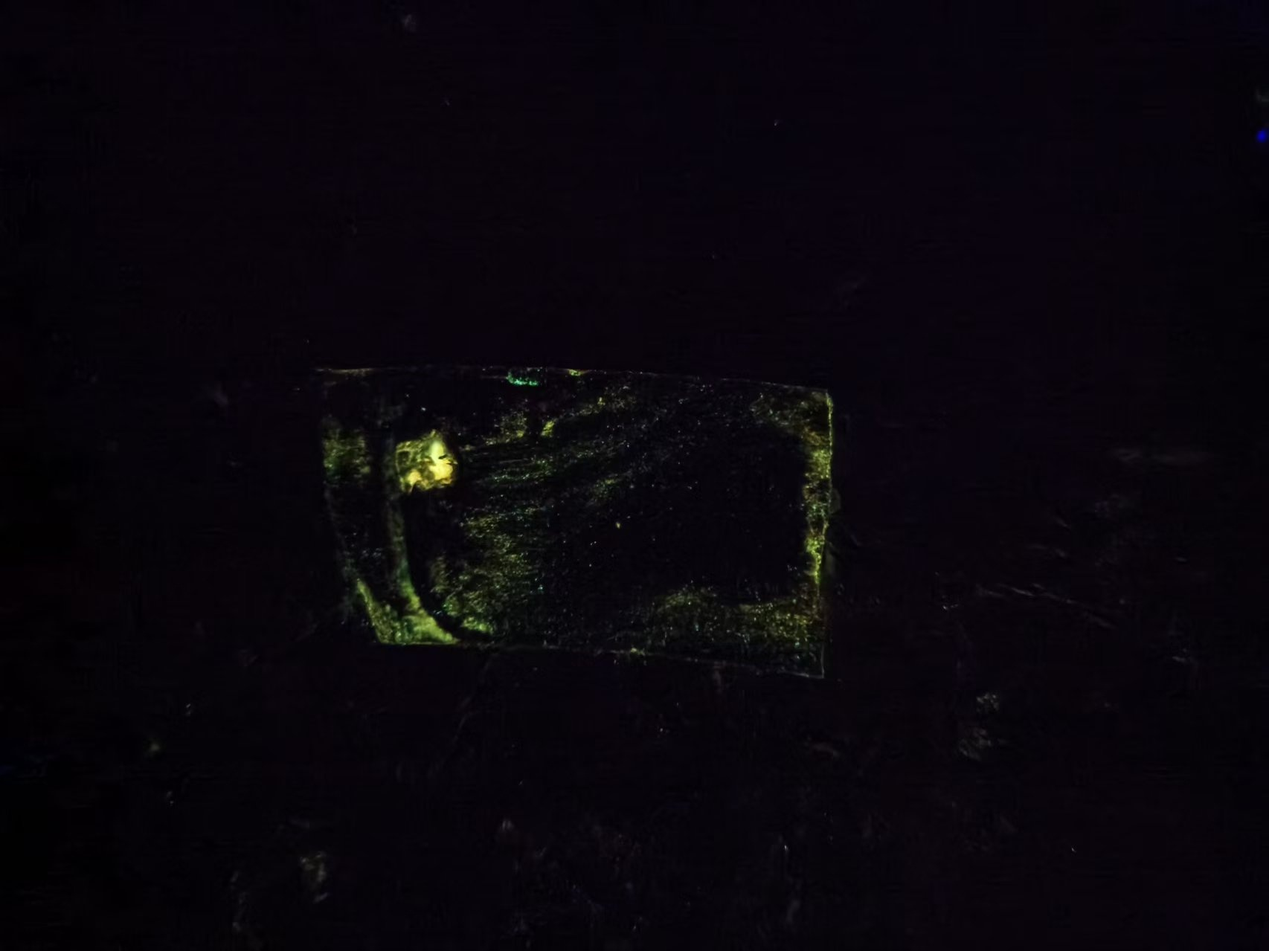Crater: (381, 406, 483, 514)
